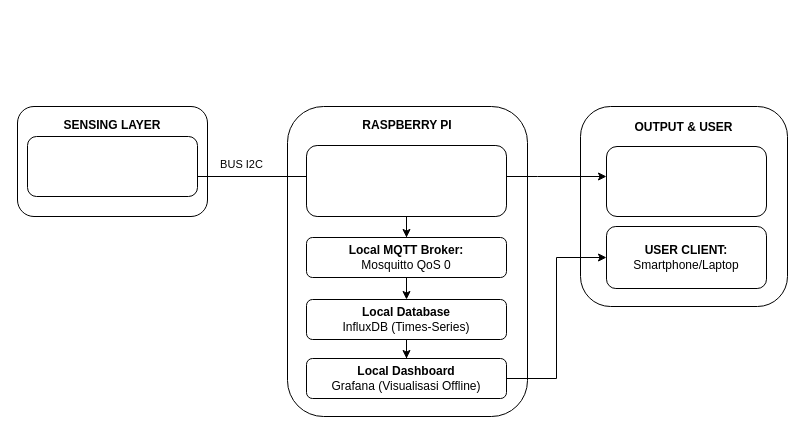
Image size: 805x434. Some labels were removed from this diagram. Here are the shapes that lost their labels. From the top down, the centre of each, then its label:
At (x=112, y=166): "Akselerometer ADXL345 (SENSOR GETARAN)".
At (x=406, y=180): "Signal Processing (Python): 1. Raw Data 2. Kalkulasi RMS & FFT".
At (x=686, y=181): "AKTUATOR LOKAL: RGB LED & Active Buzzer".
